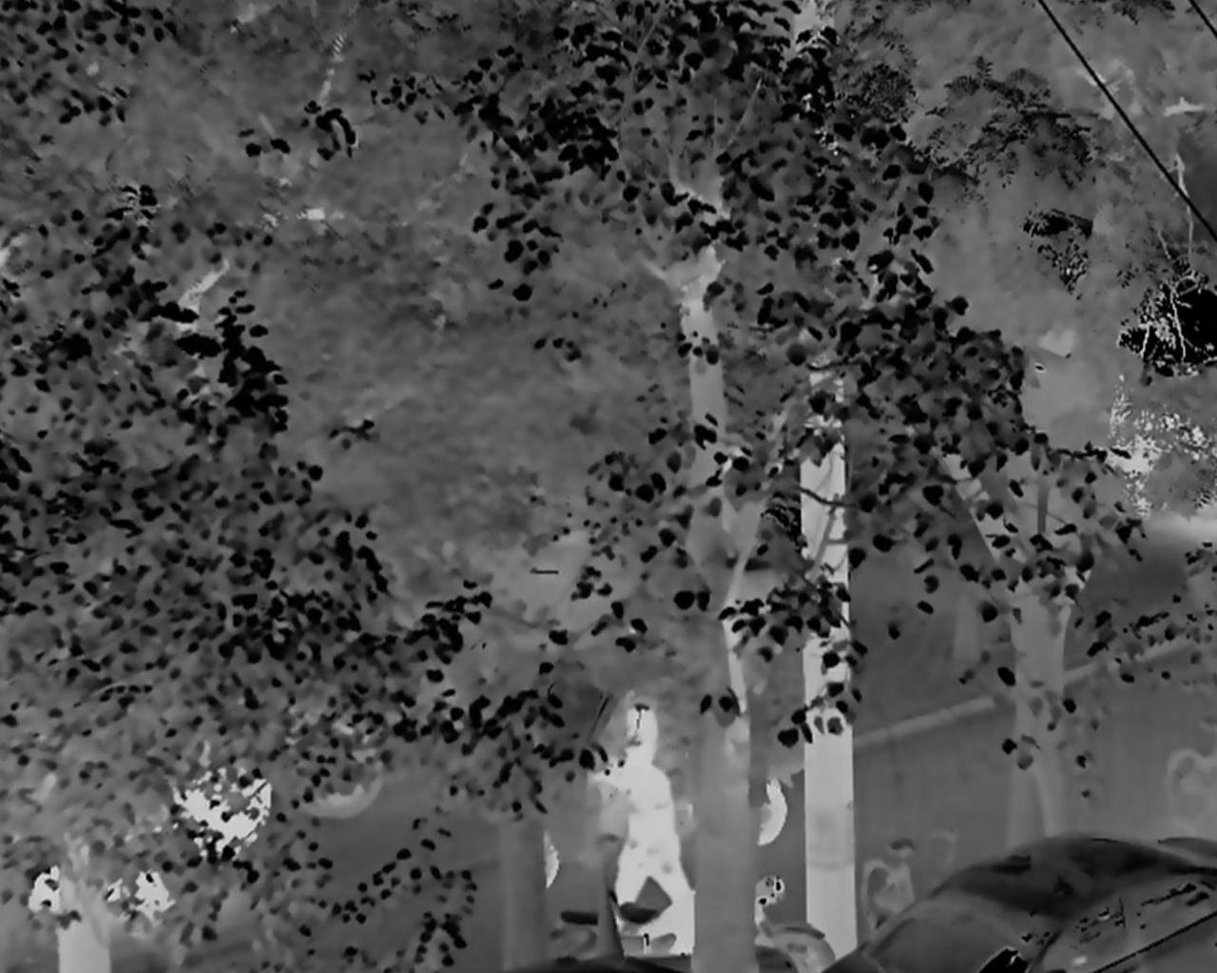person: (591, 704, 694, 932)
